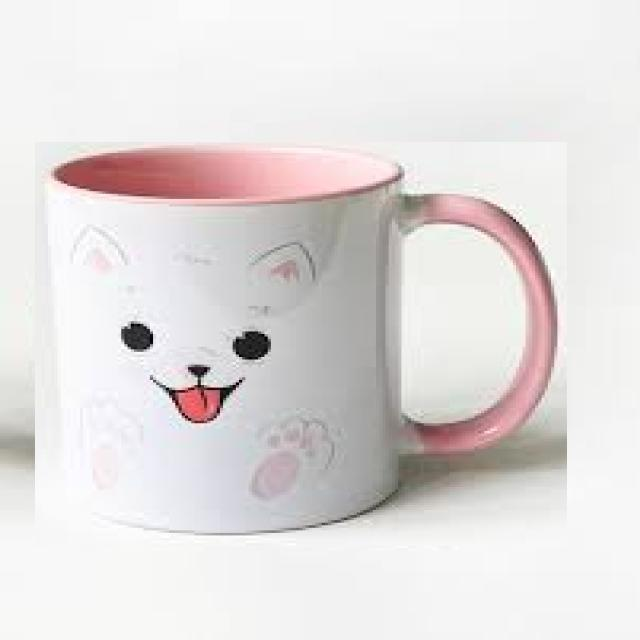Coffee Mug: (48, 144, 556, 534)
